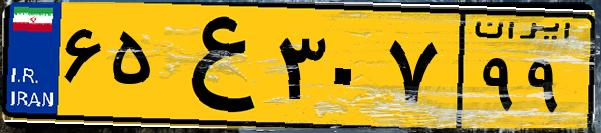0: (330, 28, 385, 110)
3: (270, 28, 330, 110)
5: (110, 28, 158, 98)
6: (57, 26, 110, 100)
7: (385, 28, 445, 110)
9: (475, 38, 525, 113), (525, 38, 570, 115)
ع: (158, 12, 270, 120)
